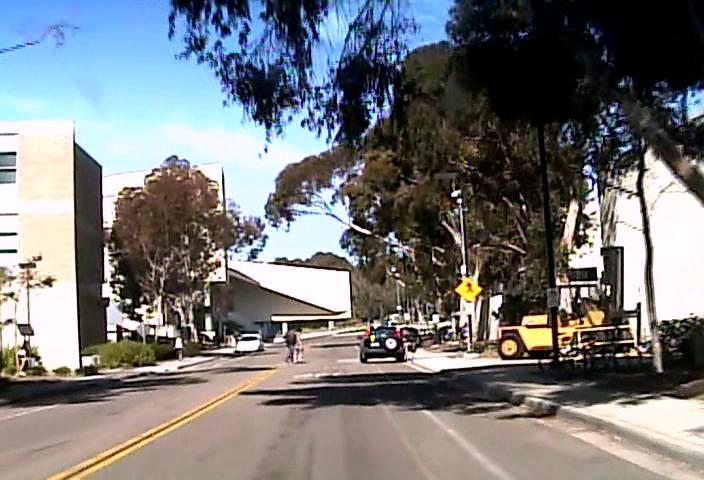pedestrianCrossing: (455, 276, 482, 302)
